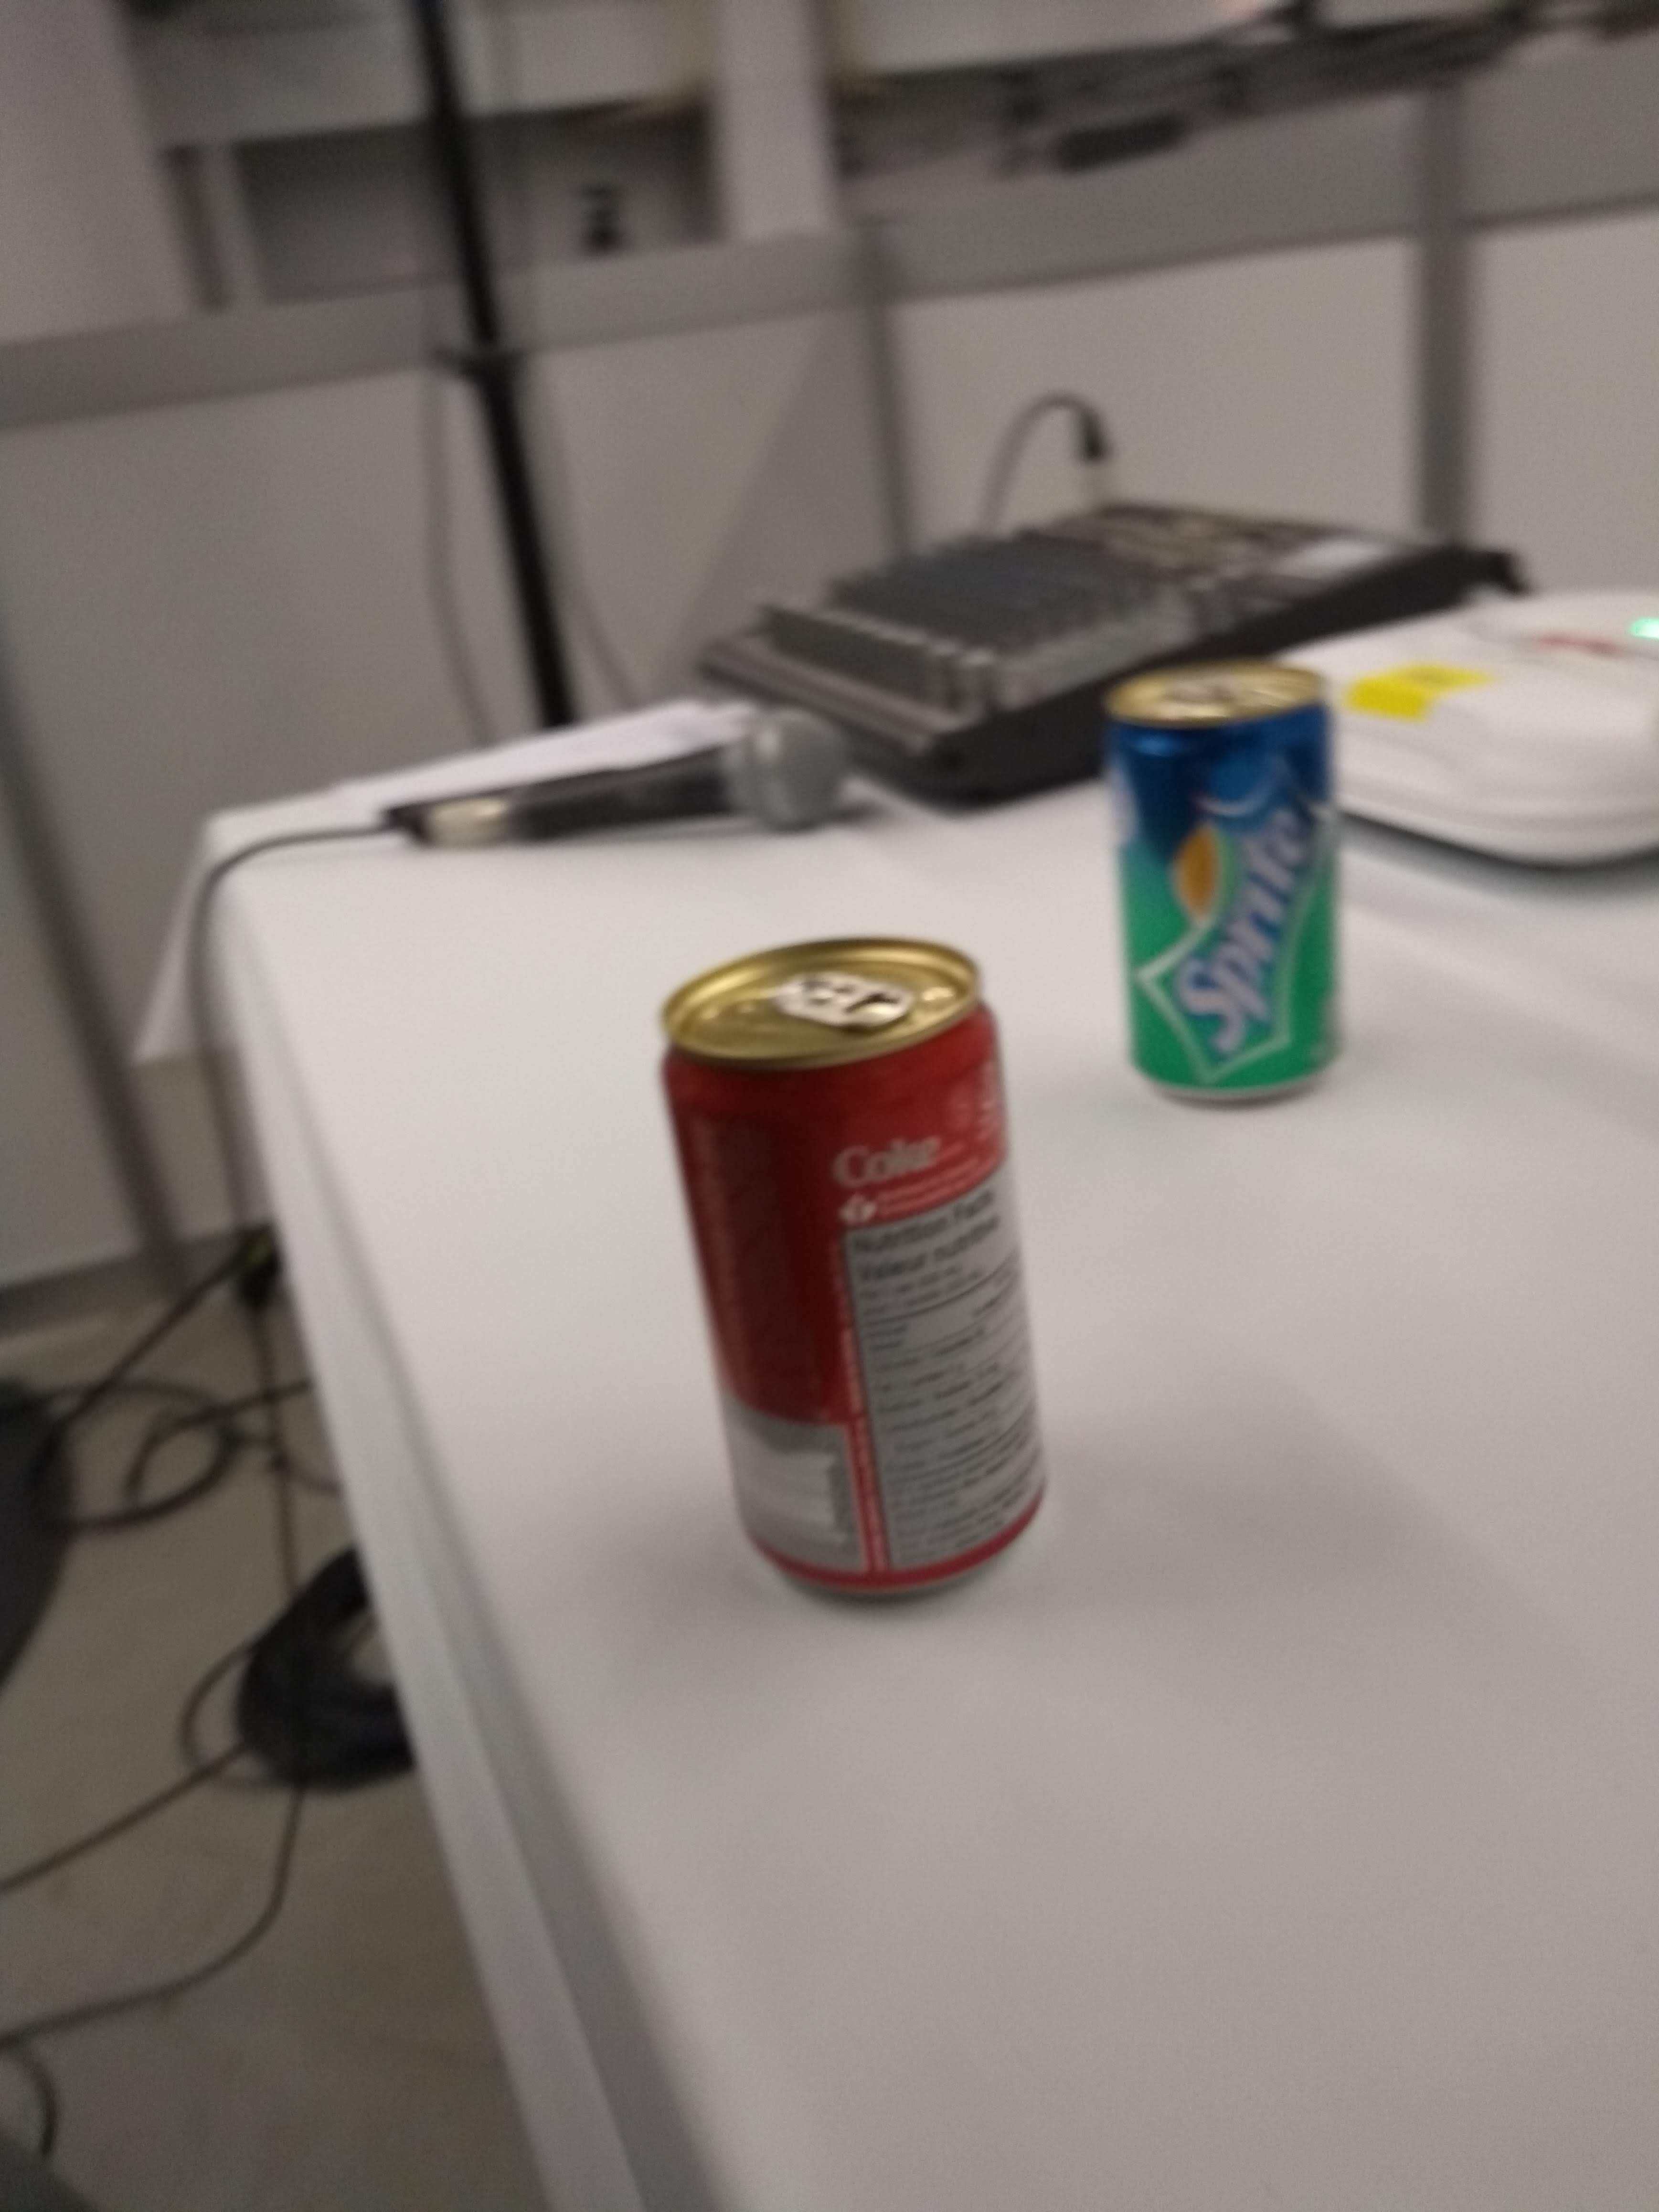coke: (643, 913, 1063, 1627)
sprite: (1091, 650, 1359, 1125)
